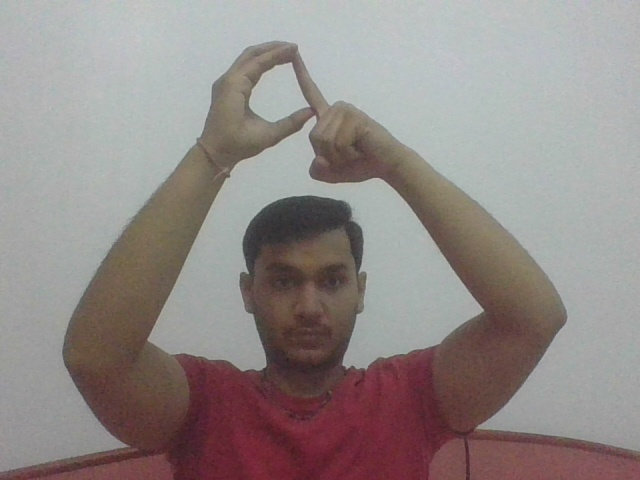D: (201, 41, 388, 186)
